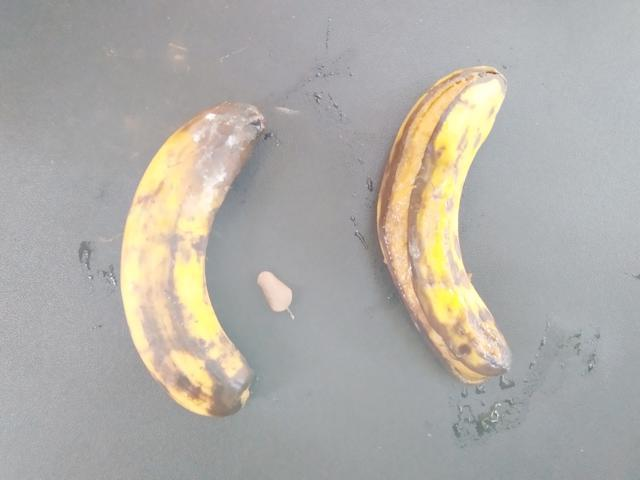rotten: (353, 39, 555, 413), (103, 88, 292, 436)
